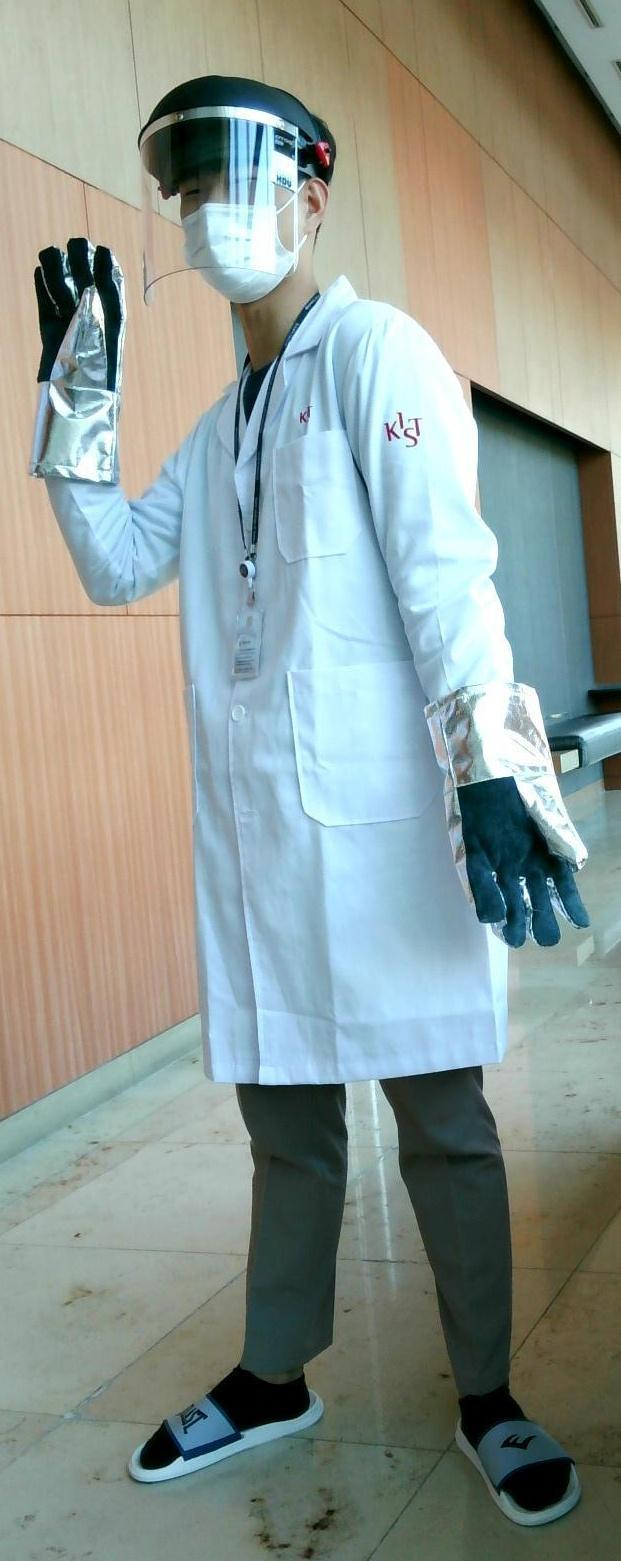lab_coat: (159, 341, 464, 1080)
